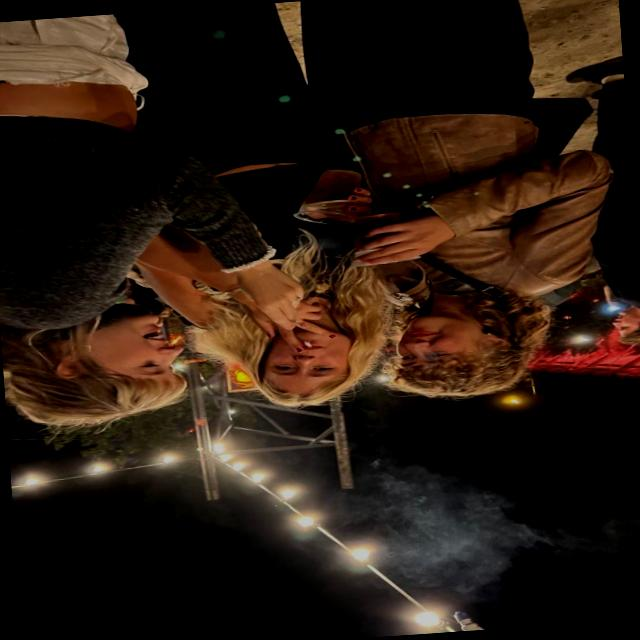cigarette: (284, 336, 326, 352)
